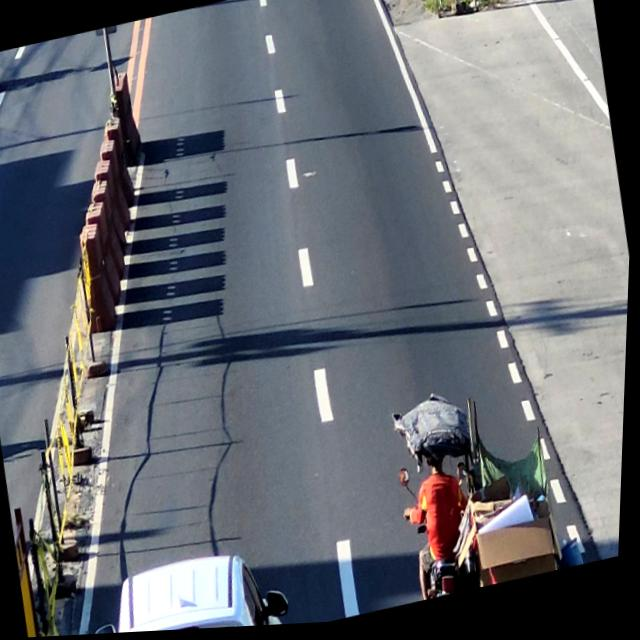Car: (104, 548, 288, 635)
Tricycle: (385, 374, 576, 608)
